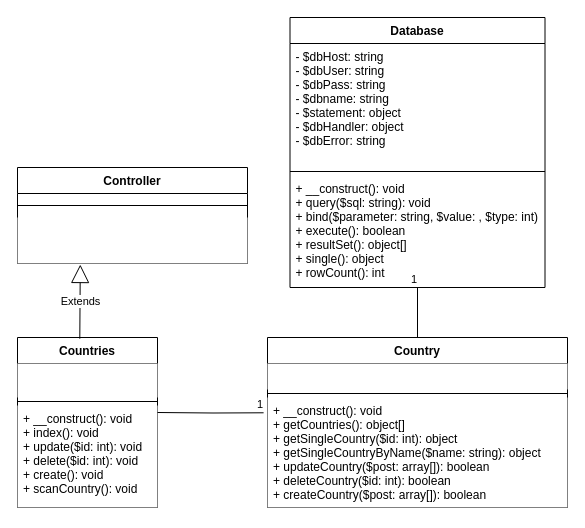
The diagram is 585 pixels wide and 528 high, and some of its shapes have lost their labels. The centre of each missing label's shape, as x and y in pixels:
"+ model($model: string): object + view($view: string, $data: array[]): void" belongs at point (132, 240).
"- $countryModel: object" belongs at point (87, 380).
"- $db: object" belongs at point (417, 376).
